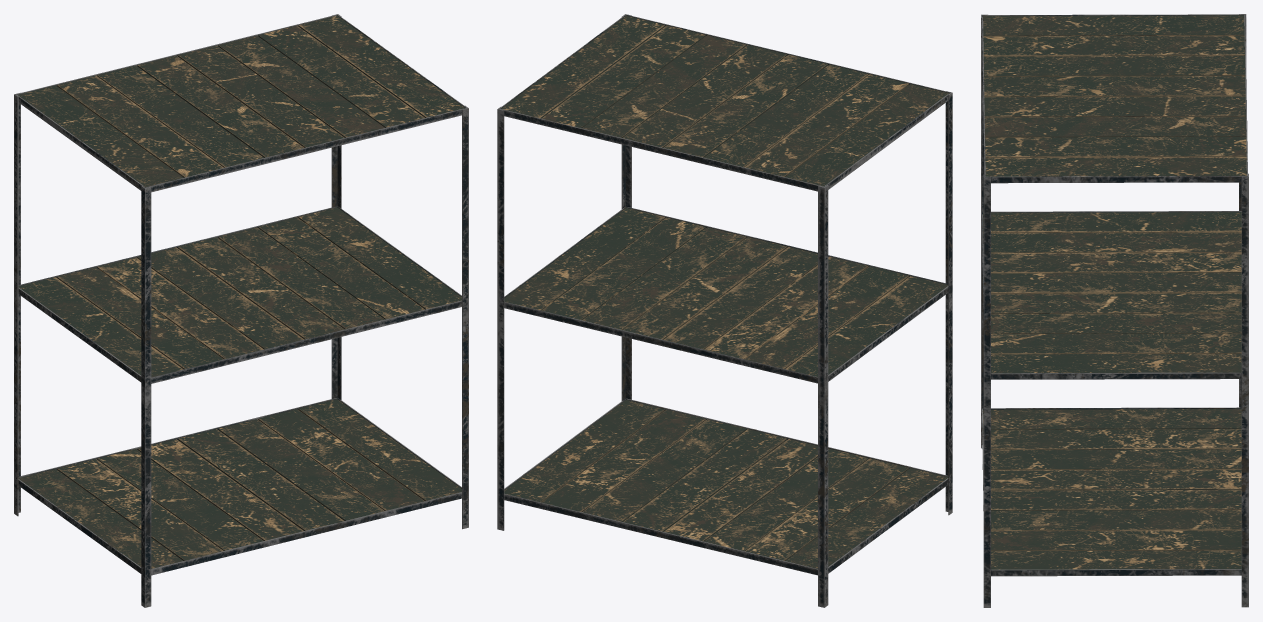
The model's file is EstanteFINAL.fbx.
3 renders of one model, left to right at view 1: azimuth 30°, elevation 25°; view 2: azimuth 150°, elevation 25°; view 3: azimuth 270°, elevation 25°, orthographic. The views are drawn at different scales.
Visible parts, largest first — view 1: rack; view 2: rack; view 3: rack.
Boxes of the visible parts, bbox=[...] form: rack: bbox=[14, 14, 468, 607]; rack: bbox=[497, 14, 952, 607]; rack: bbox=[981, 14, 1248, 607].
Size of the model in its own units: 1.77 by 2.18 by 1.23.
1 material, 1 textured.
